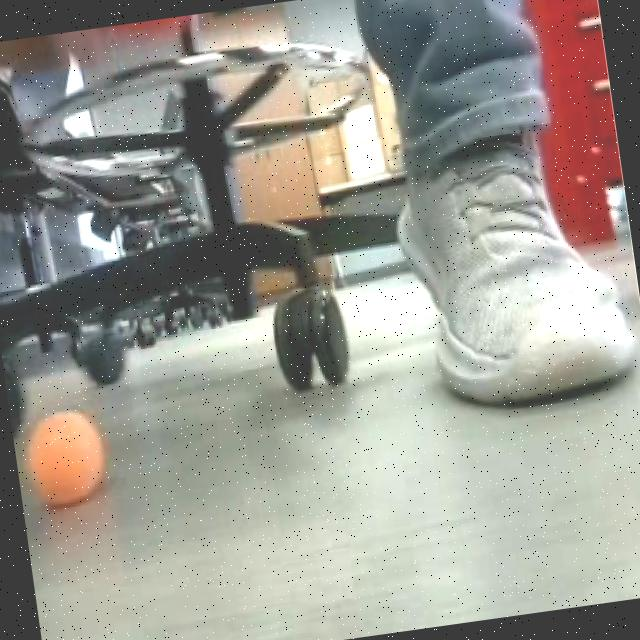ping-pong-ball: (21, 409, 110, 508)
